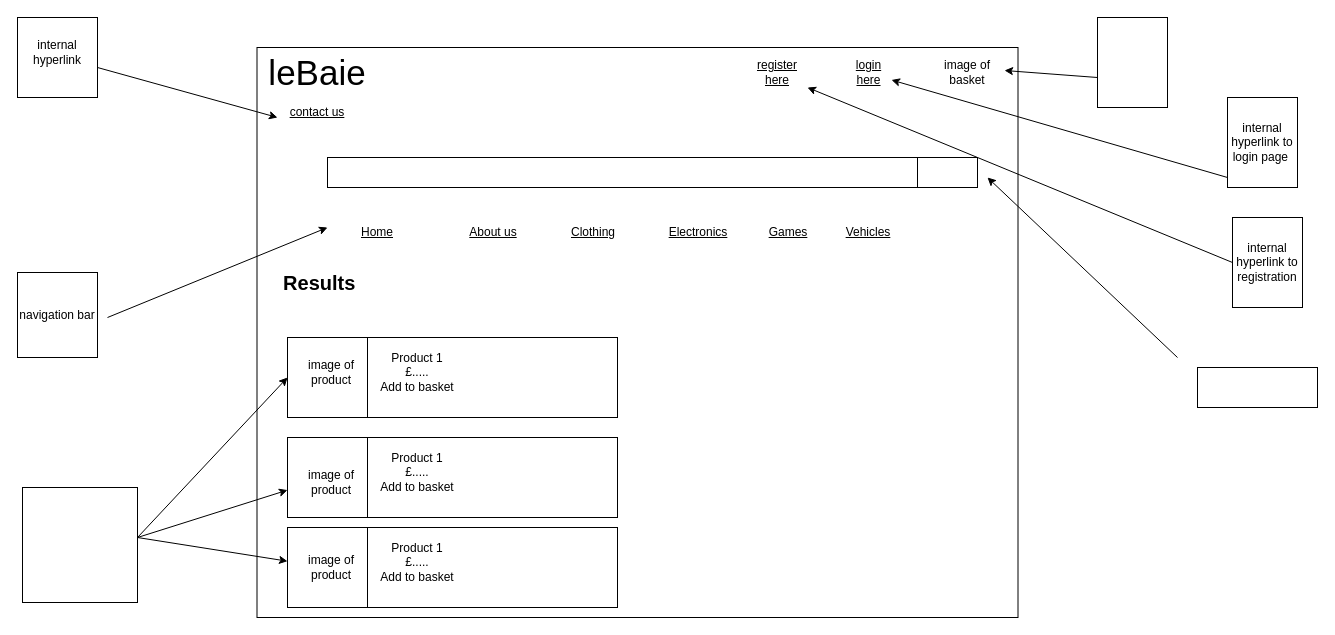
Image size: 1335x635. Some labels were removed from this diagram. The shapes that lost their labels are listed below. From the top down, each one's centre as x and y in pixels, then its label:
point (1132, 62): internal hyperlink to login page and basket page (on click event)
point (627, 172): search leBaie
point (947, 172): Search
point (1257, 387): Search button
point (80, 544): results displayed using php and SQL to display data
